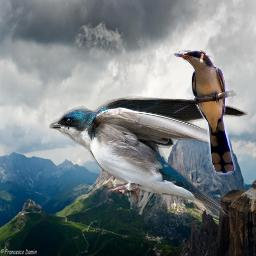Cuckoo: (174, 50, 236, 175)
Swallow: (49, 95, 248, 217)
